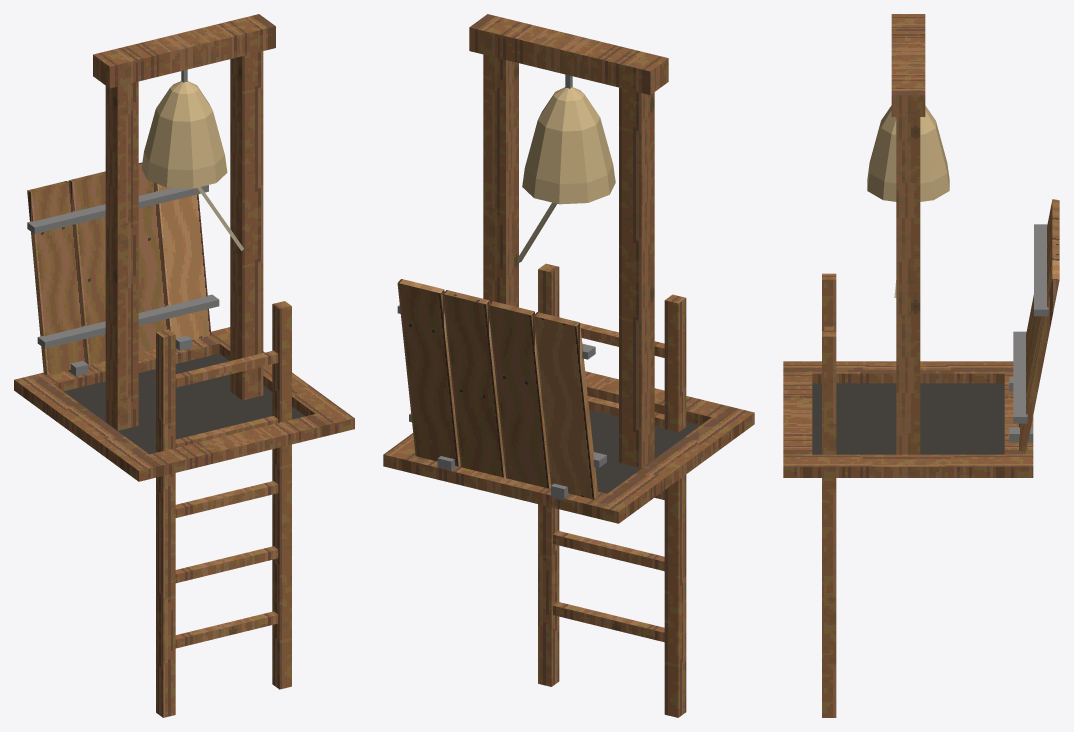
File: props.glb
3 renders of one model, left to right at view 1: azimuth 30°, elevation 25°; view 2: azimuth 150°, elevation 25°; view 3: azimuth 270°, elevation 25°, orthographic. The views are drawn at different scales.
Parts seen in each view (by area): view 1: trapdoor-open_Hatch, cove-bell_Bell; view 2: trapdoor-open_Hatch, cove-bell_Bell; view 3: trapdoor-open_Hatch, cove-bell_Bell.
Boxes of the visible parts, x1,y1,x2,y2 form: trapdoor-open_Hatch: (14,162,354,717); cove-bell_Bell: (93,14,275,430); trapdoor-open_Hatch: (383,263,754,717); cove-bell_Bell: (469,14,668,468); trapdoor-open_Hatch: (783,199,1059,717); cove-bell_Bell: (867,14,949,454).
Size of the model in its own units: 1.04 by 2.9 by 1.15.
Materials: 7 (3 with a texture image).
